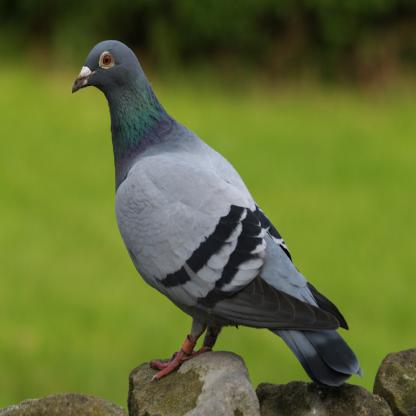Flying Rat: (71, 36, 363, 392)
